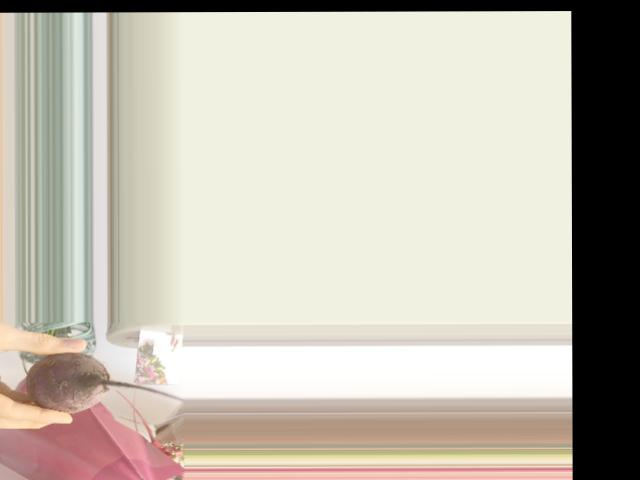beet: (24, 352, 185, 413)
